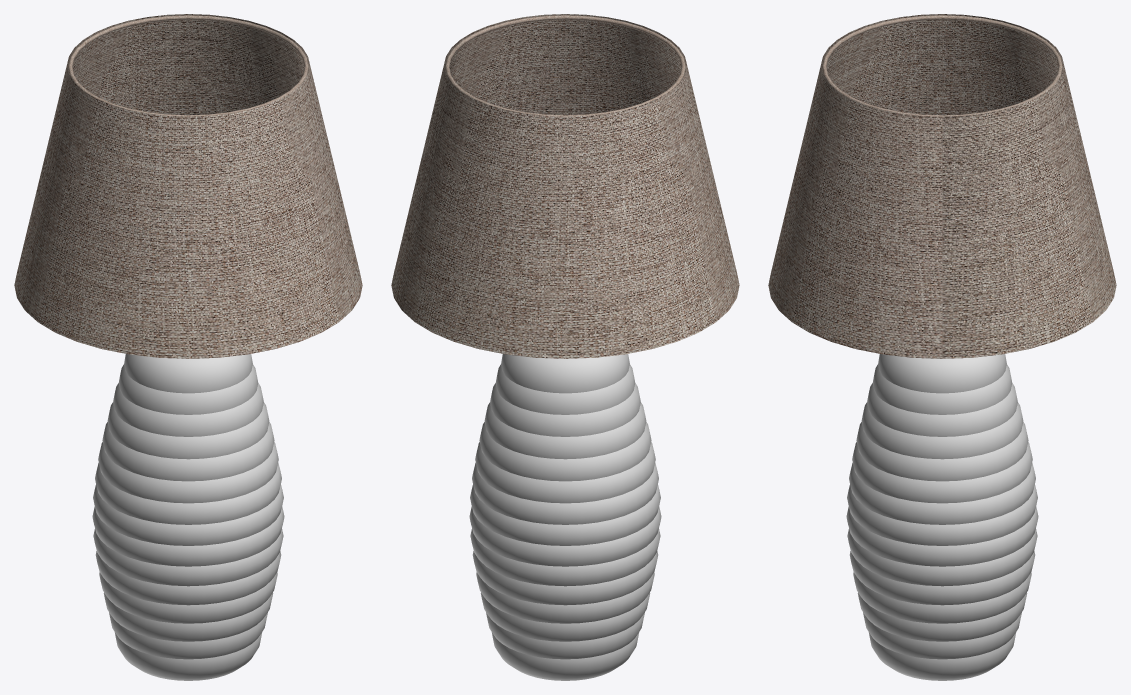
File: Polyester Masa Lambasç-Free3D.fbx
3 views of the same model, side by side, from view 1: azimuth 30°, elevation 25°; view 2: azimuth 150°, elevation 25°; view 3: azimuth 270°, elevation 25° (orthographic).
Parts seen in each view (by area): view 1: Şapka, Polyester, Ust_Tel; view 2: Şapka, Polyester, Ust_Tel; view 3: Şapka, Polyester, Ust_Tel.
Part boxes in pixels (<box>): Şapka: <box>14,14,362,358</box>; Polyester: <box>92,354,284,680</box>; Ust_Tel: <box>68,15,308,116</box>; Şapka: <box>391,14,739,358</box>; Polyester: <box>469,354,661,680</box>; Ust_Tel: <box>445,15,685,116</box>; Şapka: <box>768,14,1116,358</box>; Polyester: <box>846,354,1038,680</box>; Ust_Tel: <box>822,15,1062,116</box>.
Bounding box in the file's own units: 33 × 62.15 × 33.
Materials: 2 (1 with a texture image).
